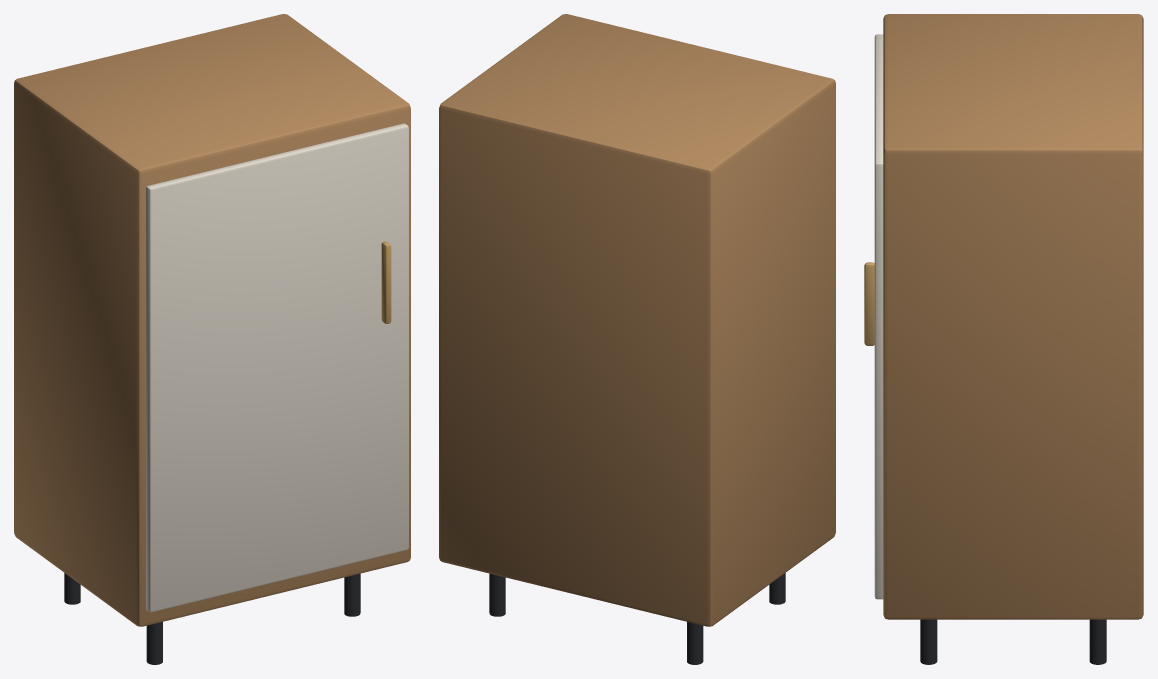
Rendered from cabinet_1.glb.
3 views of the same model, side by side, from view 1: azimuth 30°, elevation 25°; view 2: azimuth 150°, elevation 25°; view 3: azimuth 270°, elevation 25° (orthographic). The views are drawn at different scales.
Parts seen in each view (by area): view 1: box.001, box, box.002, leg.002, leg; view 2: box, leg.003, leg.001; view 3: box, box.001, box.002, leg.002, leg.003.
Part boxes in pixels (x1=…): box.001: x1=146, y1=123, x2=408, y2=612; box: x1=14, y1=14, x2=410, y2=626; box.002: x1=381, y1=241, x2=391, y2=323; leg.002: x1=344, y1=573, x2=360, y2=616; leg: x1=146, y1=622, x2=162, y2=664; box: x1=439, y1=14, x2=835, y2=626; leg.003: x1=489, y1=573, x2=505, y2=616; leg.001: x1=687, y1=622, x2=703, y2=664; box: x1=883, y1=14, x2=1143, y2=619; box.001: x1=874, y1=34, x2=883, y2=599; box.002: x1=864, y1=262, x2=874, y2=345; leg.002: x1=920, y1=619, x2=937, y2=664; leg.003: x1=1089, y1=619, x2=1106, y2=664.
Size of the model in its own units: 50 by 90 by 42.9.
